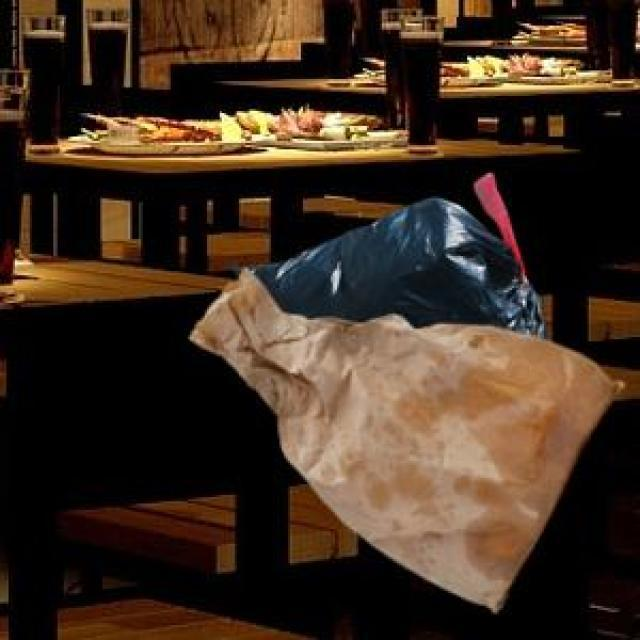miscellaneous trash: (228, 169, 544, 337)
paper: (186, 265, 621, 608)
